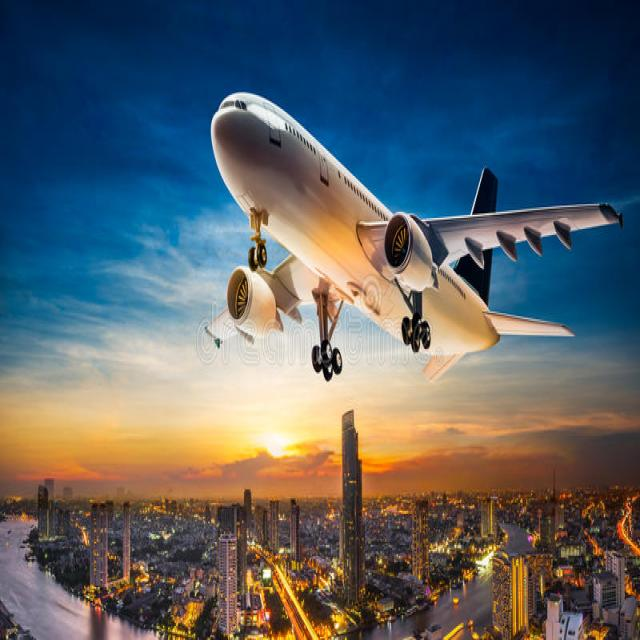plane: (200, 87, 630, 394)
